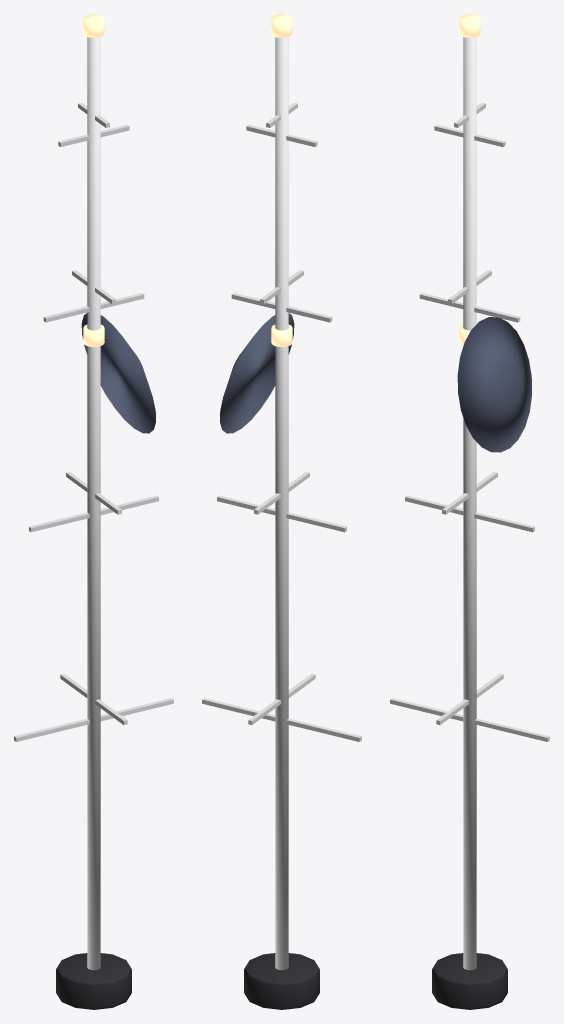
Rendered from SM_Antenna.fbx.
3 views of the same model, side by side, from view 1: azimuth 30°, elevation 25°; view 2: azimuth 150°, elevation 25°; view 3: azimuth 330°, elevation 25° (orthographic).
Visible parts, largest first — view 1: SM_Antenna; view 2: SM_Antenna; view 3: SM_Antenna.
Boxes of the visible parts, x1,y1,x2,y2 form: SM_Antenna: [14, 14, 173, 1009]; SM_Antenna: [202, 14, 361, 1009]; SM_Antenna: [390, 14, 549, 1009].
Bounding box in the file's own units: 1.8 × 2.4 × 14.21.
